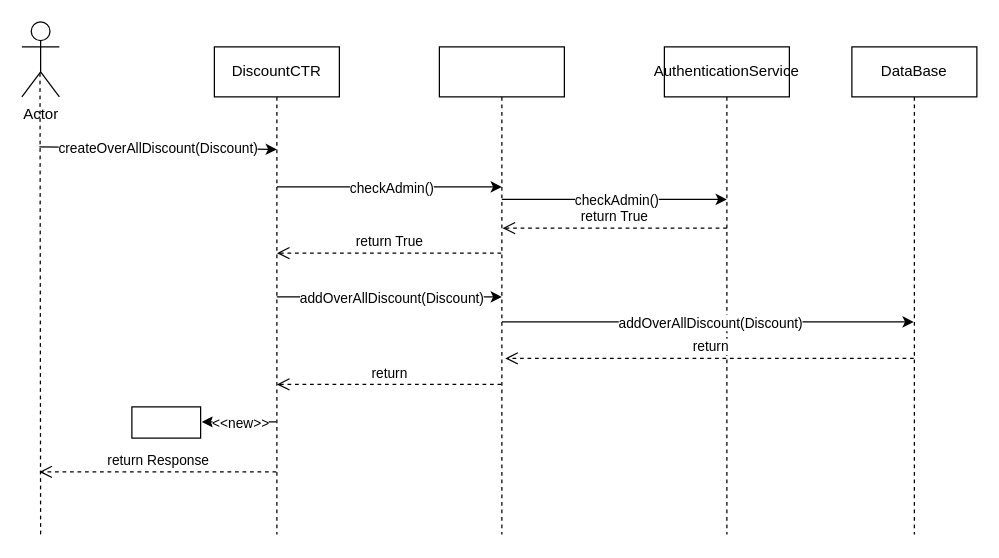
This 999x558 diagram has some shape labels left out. The box of each missing label's shape, as (x1, y1, x2, y2) in pixels:
DiscountService: (438, 46, 564, 534)
Response: (131, 406, 201, 438)
